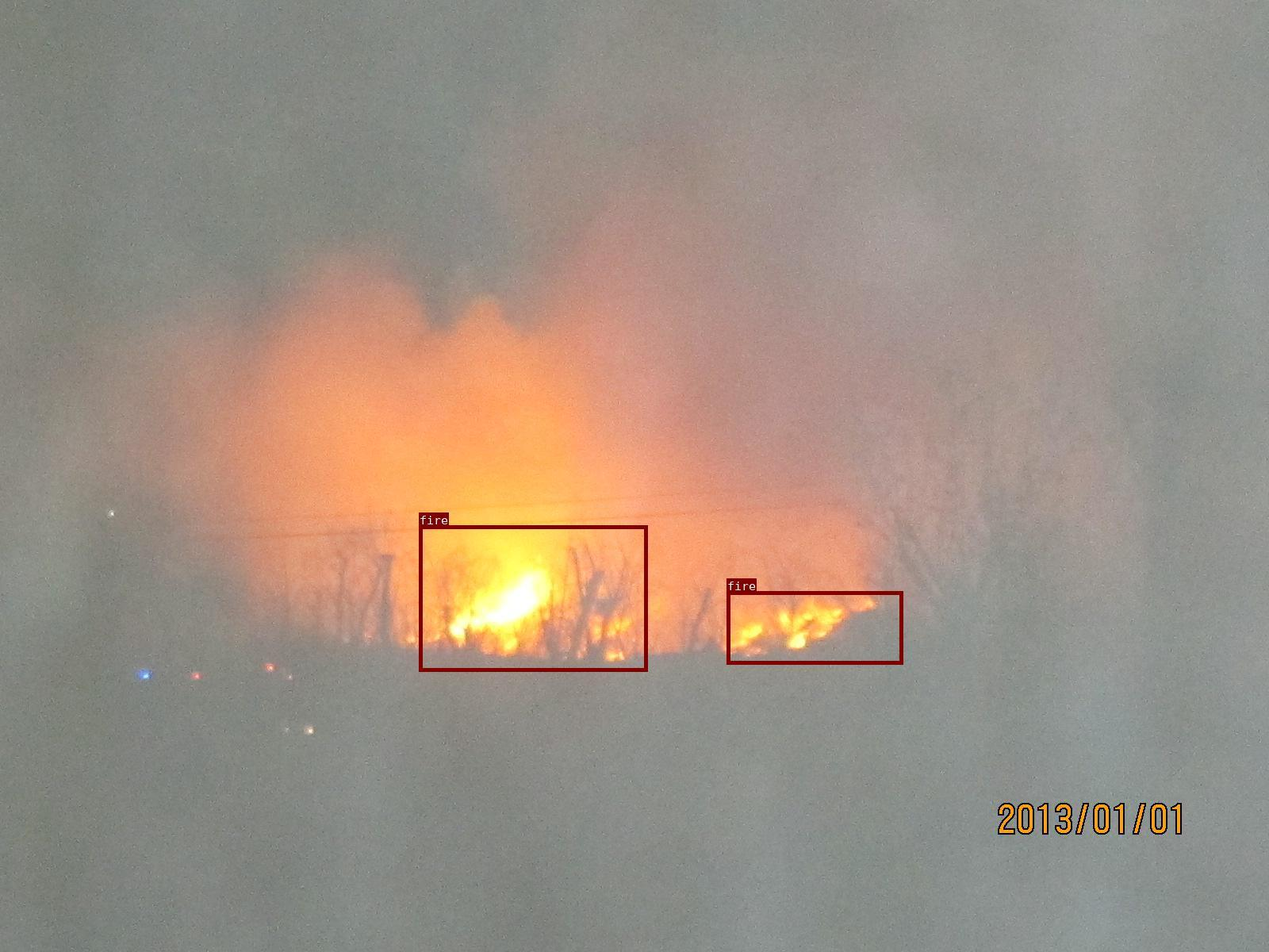fire: (419, 525, 647, 671), (726, 590, 902, 664)
